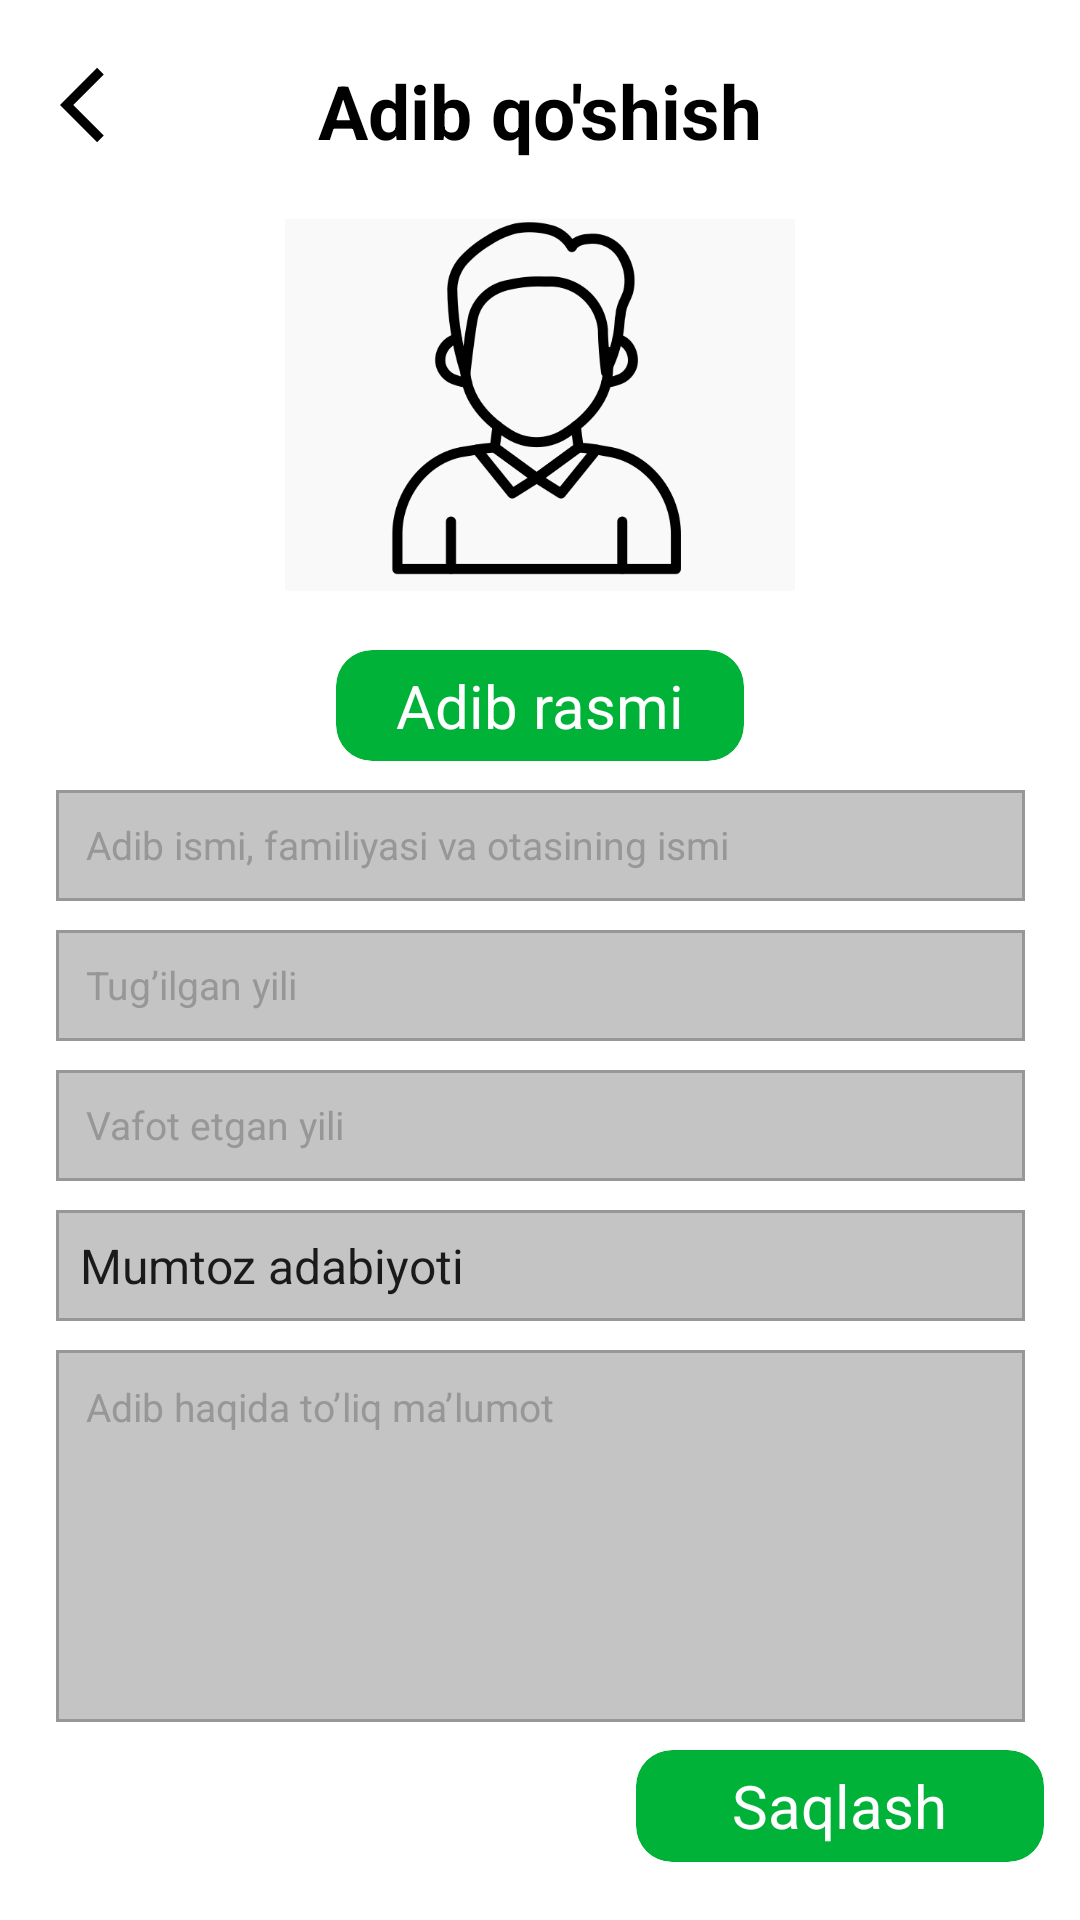

Locate icon controls on the screen. Image size 1080px x 1920px, boxes as BBox(x1, y1, x2, y2).
arrow back: BBox(60, 68, 104, 142)
